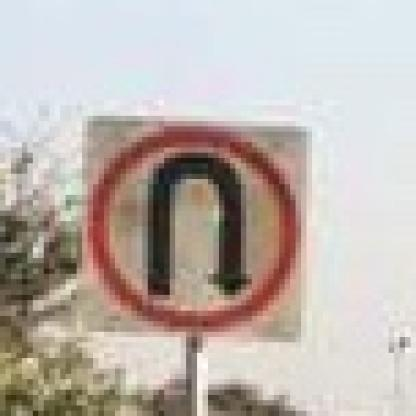U-Turn: (81, 117, 308, 341)
